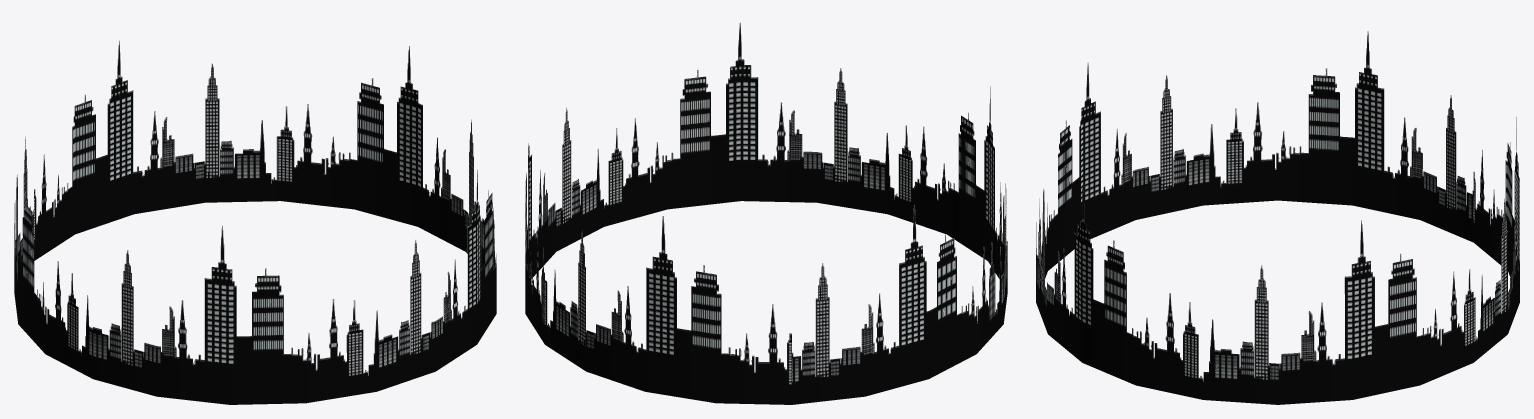
Rendered from bg_building.fbx.
3 renders of one model, left to right at view 1: azimuth 30°, elevation 25°; view 2: azimuth 150°, elevation 25°; view 3: azimuth 270°, elevation 25°, orthographic.
Parts seen in each view (by area): view 1: pCylinder1; view 2: pCylinder1; view 3: pCylinder1.
Boxes of the visible parts, x1,y1,x2,y2 form: pCylinder1: [14, 40, 496, 404]; pCylinder1: [525, 22, 1007, 404]; pCylinder1: [1036, 31, 1519, 404].
Size of the model in its own units: 22.21 by 9.45 by 22.21.
